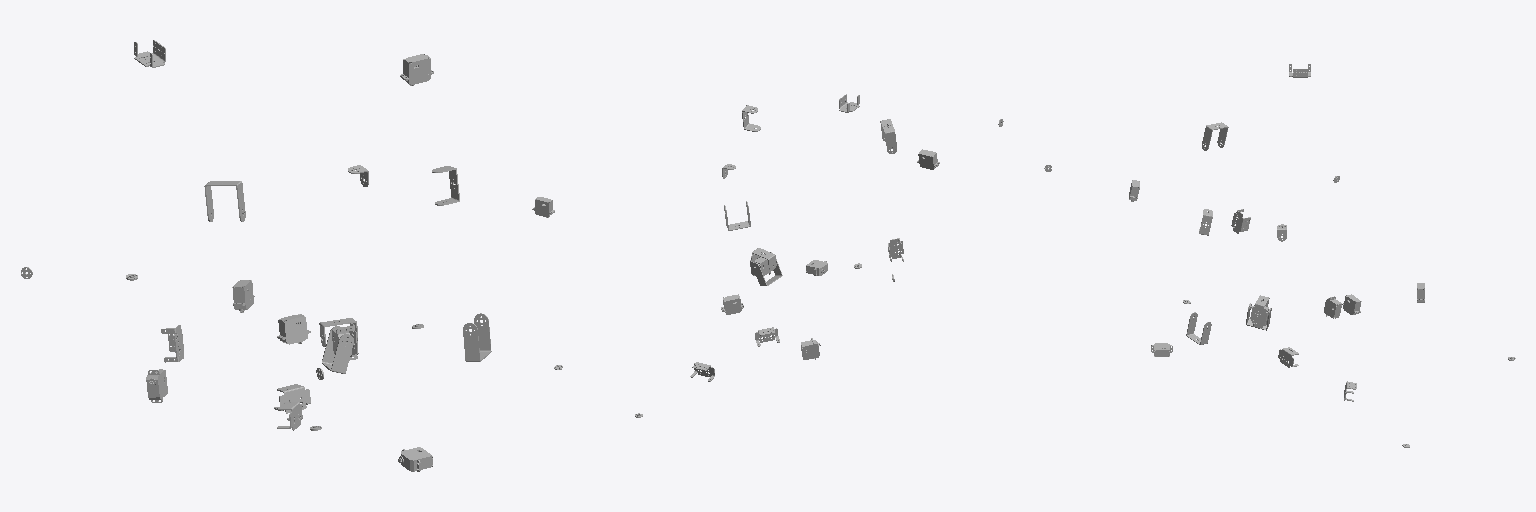
robot.urdf — urdf_arm_assembly:
<?xml version="1.0" encoding="utf-8"?>
<!-- This URDF was automatically created by SolidWorks to URDF Exporter! Originally created by Stephen Brawner ([email redacted]) 
     Commit Version: 1.6.0-1-g15f4949  Build Version: 1.6.7594.29634
     For more information, please see http://wiki.ros.org/sw_urdf_exporter -->
<robot
  name="urdf_arm_assembly">
  <link
    name="link1">
    <inertial>
      <origin
        xyz="-9.9819E-06 1.1338E-06 -0.020292"
        rpy="0 0 0" />
      <mass
        value="0.031905" />
      <inertia
        ixx="5.2647E-06"
        ixy="2.6656E-10"
        ixz="-8.0892E-08"
        iyy="8.6771E-06"
        iyz="9.1152E-11"
        izz="5.4828E-06" />
    </inertial>
    <visual>
      <origin
        xyz="0 0 0"
        rpy="0 0 0" />
      <geometry>
        <mesh
          filename="package://urdf_arm_assembly/meshes/link1.STL" />
      </geometry>
      <material
        name="">
        <color
          rgba="0.75294 0.75294 0.75294 1" />
      </material>
    </visual>
    <collision>
      <origin
        xyz="0 0 0"
        rpy="0 0 0" />
      <geometry>
        <mesh
          filename="package://urdf_arm_assembly/meshes/link1.STL" />
      </geometry>
    </collision>
  </link>
  <link
    name="link2">
    <inertial>
      <origin
        xyz="-0.0087422 0.0060211 0.0052483"
        rpy="0 0 0" />
      <mass
        value="0.04101" />
      <inertia
        ixx="6.8956E-06"
        ixy="-8.4154E-08"
        ixz="1.8338E-10"
        iyy="7.5961E-06"
        iyz="1.7882E-08"
        izz="1.1271E-05" />
    </inertial>
    <visual>
      <origin
        xyz="0 0 0"
        rpy="0 0 0" />
      <geometry>
        <mesh
          filename="package://urdf_arm_assembly/meshes/link2.STL" />
      </geometry>
      <material
        name="">
        <color
          rgba="0.75294 0.75294 0.75294 1" />
      </material>
    </visual>
    <collision>
      <origin
        xyz="0 0 0"
        rpy="0 0 0" />
      <geometry>
        <mesh
          filename="package://urdf_arm_assembly/meshes/link2.STL" />
      </geometry>
    </collision>
  </link>
  <joint
    name="joint1"
    type="continuous">
    <origin
      xyz="-0.0099012 0.00015556 -0.07675"
      rpy="0 0 1.5708" />
    <parent
      link="link1" />
    <child
      link="link2" />
    <axis
      xyz="0 0 1" />
  </joint>
  <link
    name="link3">
    <inertial>
      <origin
        xyz="-0.017603 0.046712 -0.0418"
        rpy="0 0 0" />
      <mass
        value="0.044197" />
      <inertia
        ixx="1.4341E-05"
        ixy="4.6877E-09"
        ixz="-1.4031E-06"
        iyy="9.7573E-06"
        iyz="-8.5692E-08"
        izz="8.5629E-06" />
    </inertial>
    <visual>
      <origin
        xyz="0 0 0"
        rpy="0 0 0" />
      <geometry>
        <mesh
          filename="package://urdf_arm_assembly/meshes/link3.STL" />
      </geometry>
      <material
        name="">
        <color
          rgba="0.75294 0.75294 0.75294 1" />
      </material>
    </visual>
    <collision>
      <origin
        xyz="0 0 0"
        rpy="0 0 0" />
      <geometry>
        <mesh
          filename="package://urdf_arm_assembly/meshes/link3.STL" />
      </geometry>
    </collision>
  </link>
  <joint
    name="joint2"
    type="continuous">
    <origin
      xyz="0.0060022 0.020865 0.0045944"
      rpy="0 0 0" />
    <parent
      link="link2" />
    <child
      link="link3" />
    <axis
      xyz="-0.25865 -0.96597 0" />
  </joint>
  <link
    name="link4">
    <inertial>
      <origin
        xyz="-0.029569226520314 -0.00632036102180018 -0.0582335269730579"
        rpy="0 0 0" />
      <mass
        value="0.046897347005267" />
      <inertia
        ixx="1.49214758708263E-05"
        ixy="-3.78642650392439E-07"
        ixz="-5.77520952012197E-07"
        iyy="1.54119959802557E-05"
        iyz="1.27218429084449E-08"
        izz="1.19756097657642E-05" />
    </inertial>
    <visual>
      <origin
        xyz="0 0 0"
        rpy="0 0 0" />
      <geometry>
        <mesh
          filename="package://urdf_arm_assembly/meshes/link4.STL" />
      </geometry>
      <material
        name="">
        <color
          rgba="0.752941176470588 0.752941176470588 0.752941176470588 1" />
      </material>
    </visual>
    <collision>
      <origin
        xyz="0 0 0"
        rpy="0 0 0" />
      <geometry>
        <mesh
          filename="package://urdf_arm_assembly/meshes/link4.STL" />
      </geometry>
    </collision>
  </link>
  <joint
    name="joint3"
    type="continuous">
    <origin
      xyz="-0.0053311 0.042724 -0.055481"
      rpy="0 0 0" />
    <parent
      link="link3" />
    <child
      link="link4" />
    <axis
      xyz="0.22786 -0.061014 0.97178" />
  </joint>
  <link
    name="link5">
    <inertial>
      <origin
        xyz="-0.0239555705375323 -0.0105147947883849 -0.0661652981029227"
        rpy="0 0 0" />
      <mass
        value="0.046897347776587" />
      <inertia
        ixx="1.5285023904099E-05"
        ixy="4.38240892106457E-06"
        ixz="-5.91460299258509E-07"
        iyy="1.42895386491182E-05"
        iyz="-8.27204656692774E-07"
        izz="1.27345195194231E-05" />
    </inertial>
    <visual>
      <origin
        xyz="0 0 0"
        rpy="0 0 0" />
      <geometry>
        <mesh
          filename="package://urdf_arm_assembly/meshes/link5.STL" />
      </geometry>
      <material
        name="">
        <color
          rgba="0.752941176470588 0.752941176470588 0.752941176470588 1" />
      </material>
    </visual>
    <collision>
      <origin
        xyz="0 0 0"
        rpy="0 0 0" />
      <geometry>
        <mesh
          filename="package://urdf_arm_assembly/meshes/link5.STL" />
      </geometry>
    </collision>
  </link>
  <joint
    name="joint4"
    type="continuous">
    <origin
      xyz="-0.014749 0.0010812 -0.0519"
      rpy="0 0 0" />
    <parent
      link="link4" />
    <child
      link="link5" />
    <axis
      xyz="0.63266 -0.74938 -0.1954" />
  </joint>
  <link
    name="link6">
    <inertial>
      <origin
        xyz="-0.0445755468477707 -0.0396473567898419 -0.0362705062939925"
        rpy="0 0 0" />
      <mass
        value="0.0441973469802875" />
      <inertia
        ixx="1.09129297987392E-05"
        ixy="1.07096853711367E-07"
        ixz="-1.35809787036492E-07"
        iyy="1.19803620750614E-05"
        iyz="-3.78842234797963E-09"
        izz="9.76773672569364E-06" />
    </inertial>
    <visual>
      <origin
        xyz="0 0 0"
        rpy="0 0 0" />
      <geometry>
        <mesh
          filename="package://urdf_arm_assembly/meshes/link6.STL" />
      </geometry>
      <material
        name="">
        <color
          rgba="0.752941176470588 0.752941176470588 0.752941176470588 1" />
      </material>
    </visual>
    <collision>
      <origin
        xyz="0 0 0"
        rpy="0 0 0" />
      <geometry>
        <mesh
          filename="package://urdf_arm_assembly/meshes/link6.STL" />
      </geometry>
    </collision>
  </link>
  <joint
    name="joint5"
    type="continuous">
    <origin
      xyz="0.0031696 0.030952 -0.098715"
      rpy="0 0 0" />
    <parent
      link="link5" />
    <child
      link="link6" />
    <axis
      xyz="-0.059759 -0.2988 0.95244" />
  </joint>
  <link
    name="link7">
    <inertial>
      <origin
        xyz="-0.0513485419936168 -0.0321012541156272 -0.0286255197453833"
        rpy="0 0 0" />
      <mass
        value="0.00924604523543889" />
      <inertia
        ixx="4.29619151444644E-06"
        ixy="1.09602531823876E-06"
        ixz="5.25076096147153E-07"
        iyy="7.81512654124334E-06"
        iyz="7.94098707490051E-07"
        izz="5.66895054110968E-06" />
    </inertial>
    <visual>
      <origin
        xyz="0 0 0"
        rpy="0 0 0" />
      <geometry>
        <mesh
          filename="package://urdf_arm_assembly/meshes/link7.STL" />
      </geometry>
      <material
        name="">
        <color
          rgba="0.752941176470588 0.752941176470588 0.752941176470588 1" />
      </material>
    </visual>
    <collision>
      <origin
        xyz="0 0 0"
        rpy="0 0 0" />
      <geometry>
        <mesh
          filename="package://urdf_arm_assembly/meshes/link7.STL" />
      </geometry>
    </collision>
  </link>
  <joint
    name="joint6"
    type="continuous">
    <origin
      xyz="0.00094901 0.005152 -0.027345"
      rpy="0 0 0" />
    <parent
      link="link6" />
    <child
      link="link7" />
    <axis
      xyz="-0.97584 0.21835 0.0072709" />
  </joint>
</robot>

--- Facts derived from the render (not from the file) ---
3 views of the same robot in one strip: view 1: azimuth 30°, elevation 25°; view 2: azimuth 150°, elevation 25°; view 3: azimuth 270°, elevation 25° (orthographic).
Model urdf_arm_assembly with 7 links and 6 joints (6 continuous), rooted at link1, posed every joint at zero.
Links seen in each view (by area): view 1: link5, link3, link4, link2, link7, link6, link1; view 2: link4, link3, link5, link2, link6; view 3: link4, link5, link2, link3.
Link boxes in pixels (x1,y1,x2,y2): link5: (21, 267, 491, 430); link3: (274, 166, 459, 413); link4: (146, 181, 423, 402); link2: (126, 40, 432, 471); link7: (322, 326, 353, 373); link6: (310, 318, 358, 430); link1: (400, 54, 433, 85); link4: (554, 119, 903, 369); link3: (690, 105, 1003, 381); link5: (721, 201, 894, 346); link2: (635, 94, 859, 417); link6: (750, 248, 861, 275); link4: (1202, 122, 1409, 447); link5: (1186, 176, 1361, 367); link2: (1151, 64, 1515, 360); link3: (1044, 165, 1356, 401).
Bounding box of the posed robot: 0.8789 × 1.19 × 0.7679 m (x, y, z).
Meshes: 7 distinct files referenced, 7 mesh visuals loaded (7 binary STL).
